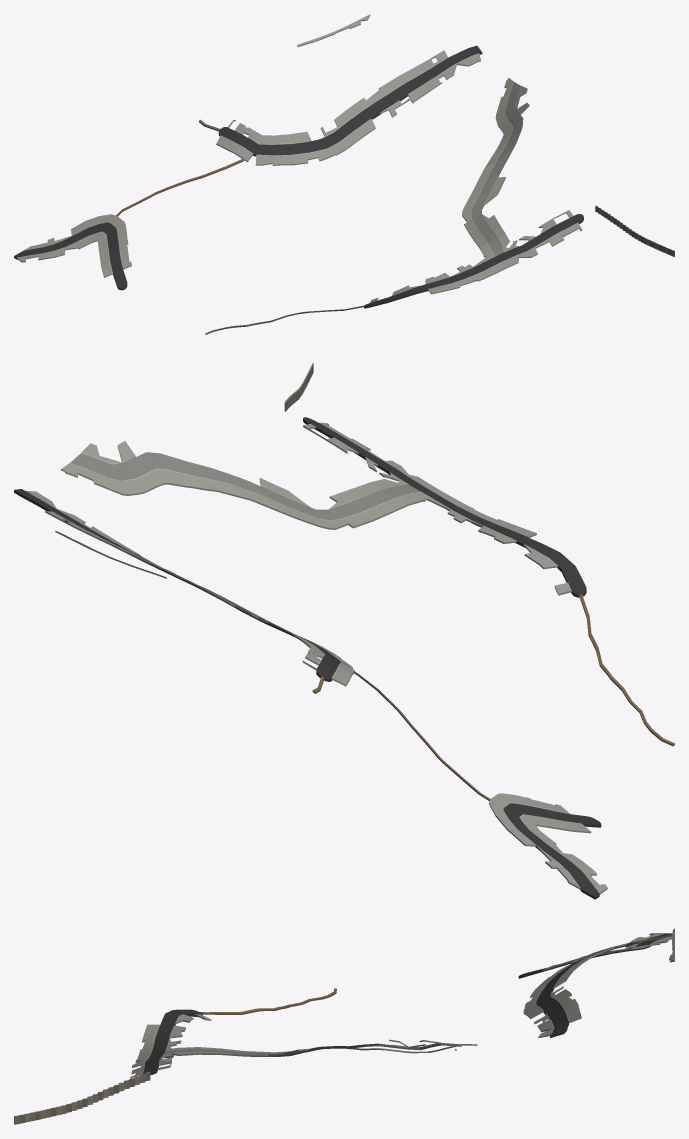
3 renders of one model, top to bottom at view 1: azimuth 30°, elevation 25°; view 2: azimuth 150°, elevation 25°; view 3: azimuth 270°, elevation 25°, orthographic. The views are drawn at different scales.
Size of the model in its own units: 294 by 107 by 285.
